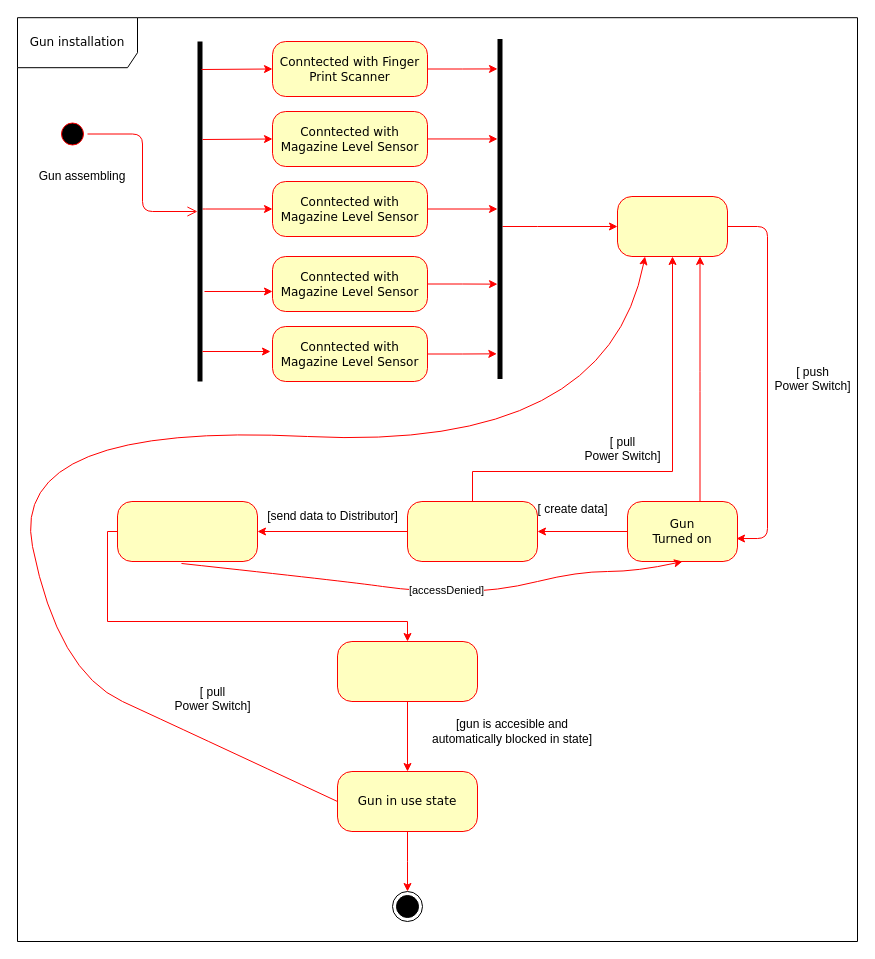
Some shapes in this 875 by 959 pixel diagram are drawn without their labels. Each missing label, with the box of its shape:
Fingerprint taken out: (406, 500, 538, 562)
Gun Turned off: (616, 196, 728, 256)
Message delivered to local distributor: (116, 500, 258, 562)
Policeman added to users: (336, 640, 478, 702)
